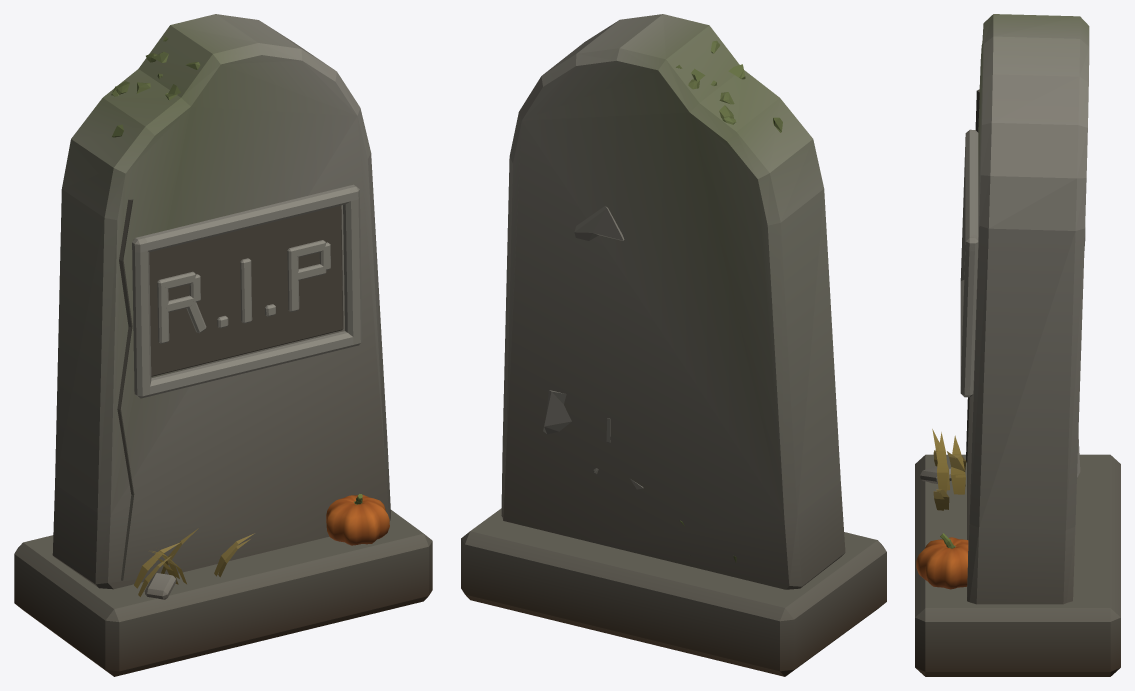
The model's file is tombstone-01.glb.
The picture shows the model from 3 angles, left to right: view 1: azimuth 30°, elevation 25°; view 2: azimuth 150°, elevation 25°; view 3: azimuth 270°, elevation 25°; orthographic projection.
Parts seen in each view (by area): view 1: tombstone_01; view 2: tombstone_01; view 3: tombstone_01.
Part boxes in pixels (box(x1,y1,x2,y2)): tombstone_01: box(14, 14, 432, 676); tombstone_01: box(461, 14, 886, 676); tombstone_01: box(915, 14, 1120, 676).
Size of the model in its own units: 0.96 by 1.59 by 0.515.
